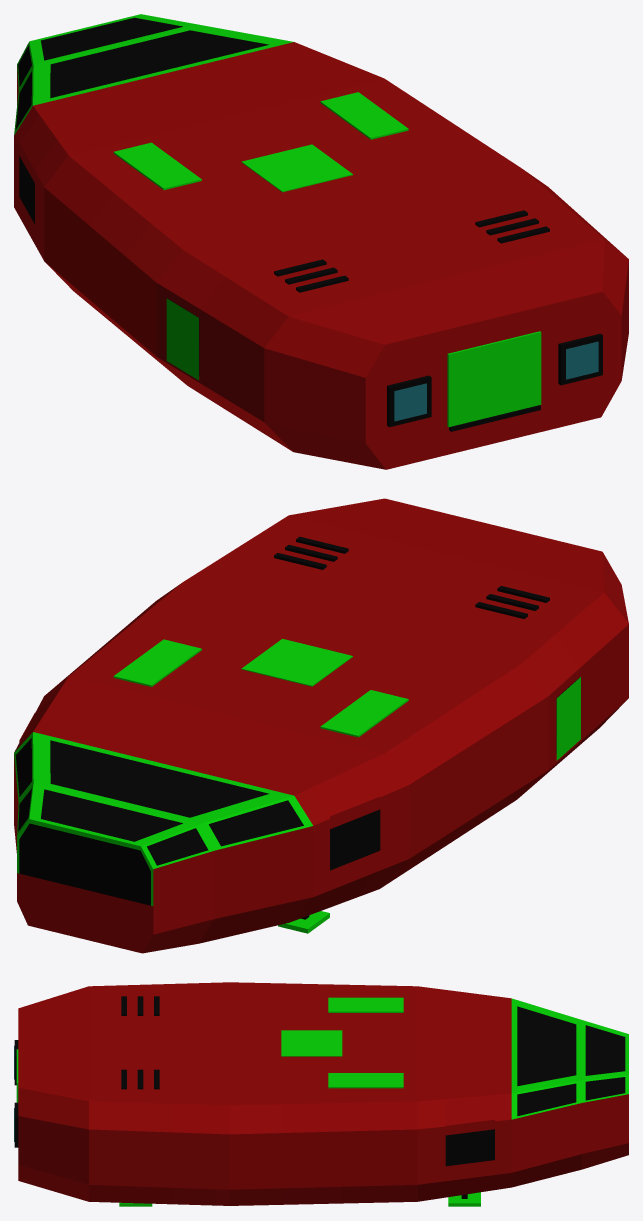
The model's file is tender-yacht.glb.
3 views of the same model, one above another, from view 1: azimuth 30°, elevation 25°; view 2: azimuth 150°, elevation 25°; view 3: azimuth 270°, elevation 25° (orthographic). The views are drawn at different scales.
Parts seen in each view (by area): view 1: tender_yacht:roof, tender_yacht:hull, tender_yacht:glazing, tender_yacht:garage_door_leaf_-1, tender_yacht:garage_door_leaf_1, tender_yacht:dorsal_hatch, tender_yacht:outer_airlock; view 2: tender_yacht:roof, tender_yacht:hull, tender_yacht:glazing, tender_yacht:dorsal_hatch, tender_yacht:outer_airlock; view 3: tender_yacht:roof, tender_yacht:hull, tender_yacht:glazing, tender_yacht:dorsal_hatch, tender_yacht:landing_foot_1_6.
Part boxes in pixels (x1,y1,x2,y2): tender_yacht:roof: [14, 14, 628, 377]; tender_yacht:hull: [14, 66, 628, 469]; tender_yacht:glazing: [15, 17, 268, 224]; tender_yacht:garage_door_leaf_-1: [447, 342, 494, 427]; tender_yacht:garage_door_leaf_1: [494, 331, 541, 415]; tender_yacht:dorsal_hatch: [241, 144, 352, 192]; tender_yacht:outer_airlock: [166, 298, 198, 380]; tender_yacht:roof: [14, 498, 628, 869]; tender_yacht:hull: [14, 624, 628, 953]; tender_yacht:glazing: [15, 738, 380, 905]; tender_yacht:dorsal_hatch: [241, 639, 352, 686]; tender_yacht:outer_airlock: [556, 677, 580, 760]; tender_yacht:roof: [18, 982, 628, 1134]; tender_yacht:hull: [14, 1040, 628, 1205]; tender_yacht:glazing: [445, 1006, 625, 1166]; tender_yacht:dorsal_hatch: [281, 1030, 342, 1056]; tender_yacht:landing_foot_1_6: [448, 1192, 480, 1206].
Bounding box in the file's own units: 14.4 × 5.62 × 26.19.
